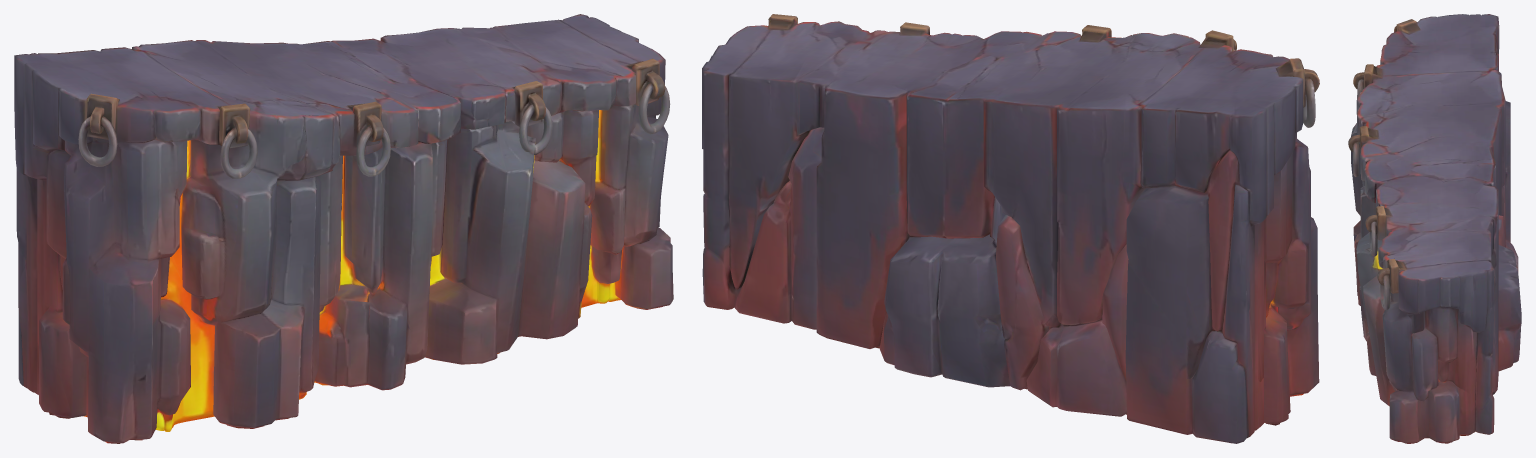
Rendered from SM_Tripo_InfernoSpiralLedge.glb.
3 views of the same model, side by side, from view 1: azimuth 30°, elevation 25°; view 2: azimuth 150°, elevation 25°; view 3: azimuth 270°, elevation 25° (orthographic). The views are drawn at different scales.
Parts seen in each view (by area): view 1: SM_Tripo_InfernoSpiralLedge_LOD0; view 2: SM_Tripo_InfernoSpiralLedge_LOD0; view 3: SM_Tripo_InfernoSpiralLedge_LOD0.
Boxes of the visible parts, x1,y1,x2,y2 form: SM_Tripo_InfernoSpiralLedge_LOD0: (14, 14, 673, 443); SM_Tripo_InfernoSpiralLedge_LOD0: (702, 14, 1319, 443); SM_Tripo_InfernoSpiralLedge_LOD0: (1348, 14, 1521, 443).
Bounding box in the file's own units: 12.78 × 7 × 4.69.
Materials: 1 (1 with a texture image).
